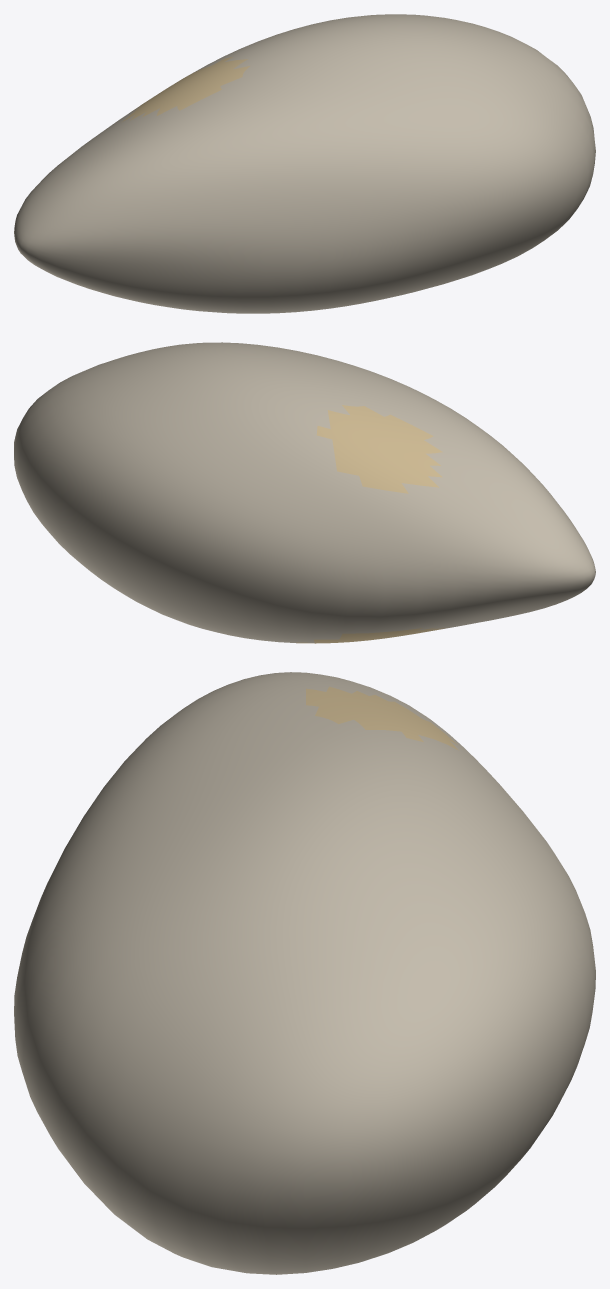
The model's file is Stone_09_Drop.fbx.
3 views of the same model, one above another, from view 1: azimuth 30°, elevation 25°; view 2: azimuth 150°, elevation 25°; view 3: azimuth 270°, elevation 25° (orthographic). The views are drawn at different scales.
Visible parts, largest first — view 1: Stone_09_Drop; view 2: Stone_09_Drop; view 3: Stone_09_Drop.
Boxes of the visible parts, bbox=[...] form: Stone_09_Drop: bbox=[14, 14, 595, 313]; Stone_09_Drop: bbox=[14, 342, 595, 643]; Stone_09_Drop: bbox=[14, 672, 595, 1274].
Bounding box in the file's own units: 0.0504 × 0.0213 × 0.0271.
